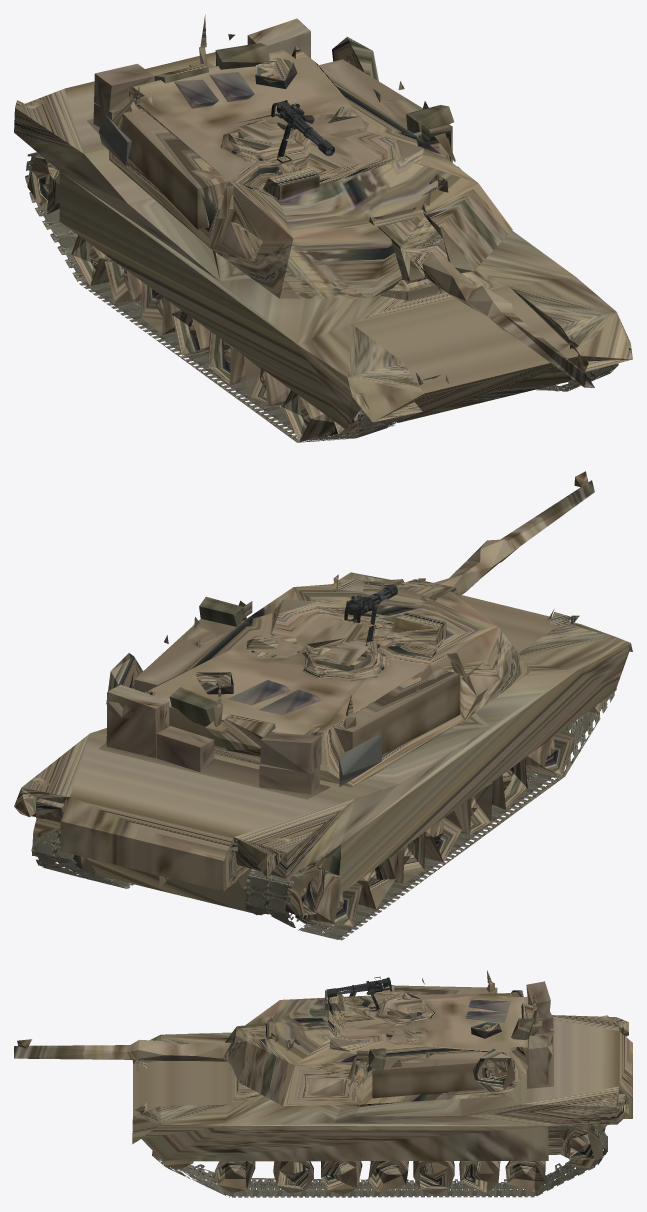
3 views of the same model, one above another, from view 1: azimuth 30°, elevation 25°; view 2: azimuth 150°, elevation 25°; view 3: azimuth 270°, elevation 25° (orthographic). The views are drawn at different scales.
Visible parts, largest first — view 1: Object_5, Object_2, Object_3; view 2: Object_5, Object_2, Object_3; view 3: Object_5, Object_2, Object_3.
Boxes of the visible parts, x1,y1,x2,y2 form: Object_5: [14, 14, 632, 441]; Object_2: [25, 152, 618, 442]; Object_3: [271, 100, 334, 156]; Object_5: [14, 471, 632, 926]; Object_2: [31, 688, 616, 940]; Object_3: [344, 584, 397, 622]; Object_5: [14, 970, 632, 1194]; Object_2: [152, 1125, 607, 1197]; Object_3: [326, 976, 391, 997].
Size of the model in its own units: 252 by 210 by 709.
Materials: 4 (4 with a texture image).
